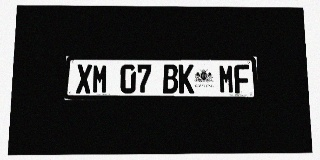0: (120, 64, 136, 93)
7: (136, 64, 152, 93)
B: (163, 64, 178, 93)
F: (234, 64, 250, 93)
K: (178, 64, 194, 93)
M: (92, 64, 108, 94), (218, 64, 234, 93)
X: (76, 64, 92, 94)
